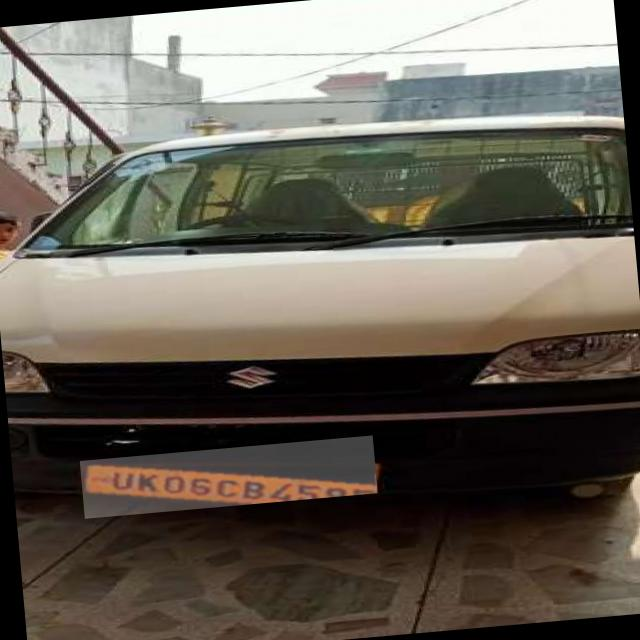Plate: (81, 436, 379, 519)
